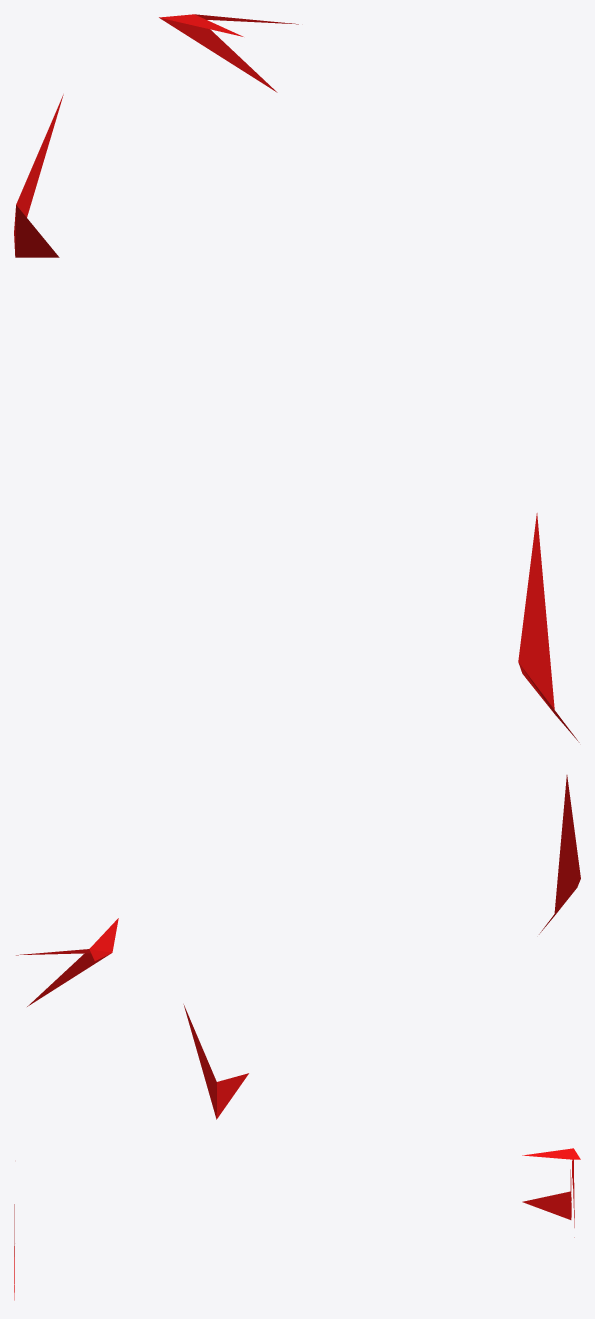
The model's file is topology_defects.obj.
3 views of the same model, one above another, from view 1: azimuth 30°, elevation 25°; view 2: azimuth 150°, elevation 25°; view 3: azimuth 270°, elevation 25° (orthographic). The views are drawn at different scales.
Parts seen in each view (by area): view 1: affected_NumCalc_triangle_9069, affected_NumCalc_triangle_8914, affected_NumCalc_triangle_8984, affected_NumCalc_triangle_8941; view 2: affected_NumCalc_triangle_9069, affected_NumCalc_triangle_8941, affected_NumCalc_triangle_8914, affected_NumCalc_triangle_8984, affected_NumCalc_triangle_7521; view 3: affected_NumCalc_triangle_8984, affected_NumCalc_triangle_7521.
Boxes of the visible parts, x1=… form: affected_NumCalc_triangle_9069: x1=518, y1=513, x2=554, y2=709; affected_NumCalc_triangle_8914: x1=159, y1=17, x2=277, y2=92; affected_NumCalc_triangle_8984: x1=15, y1=205, x2=59, y2=257; affected_NumCalc_triangle_8941: x1=16, y1=94, x2=63, y2=217; affected_NumCalc_triangle_9069: x1=554, y1=775, x2=580, y2=915; affected_NumCalc_triangle_8941: x1=183, y1=1004, x2=216, y2=1119; affected_NumCalc_triangle_8914: x1=27, y1=953, x2=111, y2=1006; affected_NumCalc_triangle_8984: x1=216, y1=1073, x2=248, y2=1119; affected_NumCalc_triangle_7521: x1=89, y1=918, x2=118, y2=952; affected_NumCalc_triangle_8984: x1=522, y1=1191, x2=571, y2=1219; affected_NumCalc_triangle_7521: x1=522, y1=1148, x2=573, y2=1159.
Size of the model in its own units: 6.61 by 7.21 by 20.19.
